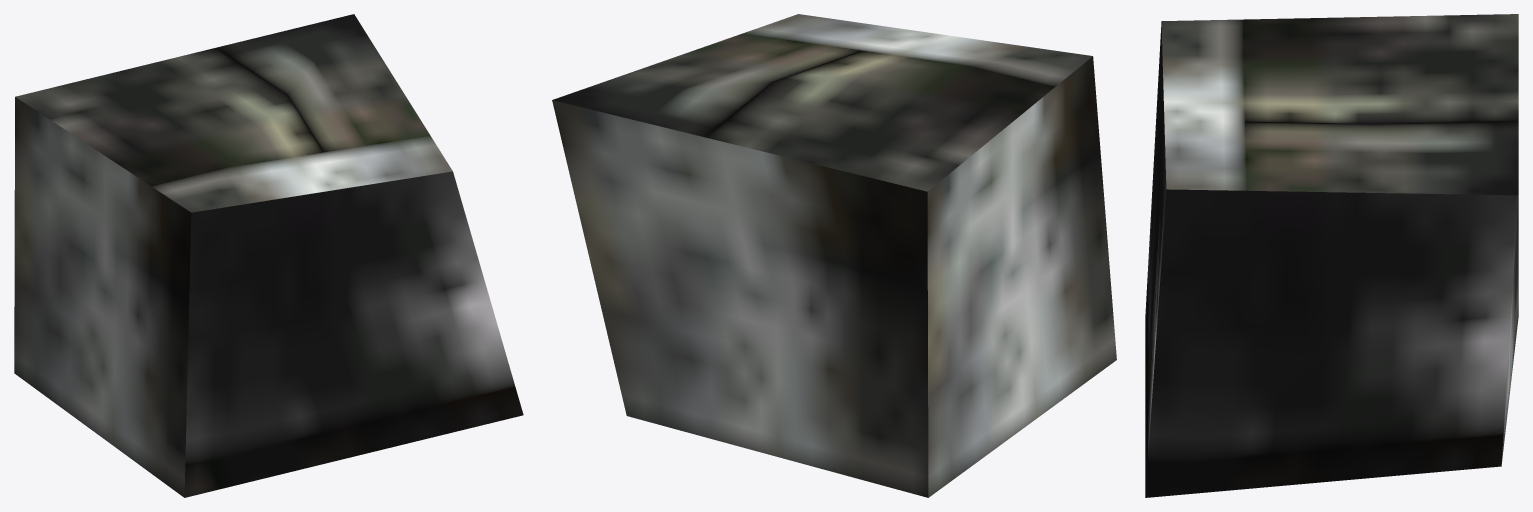
The model's file is USA - Base Infrastructure - Power Plant - Damage State 08 - ABPWRPLANT_d08.glb.
3 views of the same model, side by side, from view 1: azimuth 30°, elevation 25°; view 2: azimuth 150°, elevation 25°; view 3: azimuth 270°, elevation 25° (orthographic). The views are drawn at different scales.
Parts seen in each view (by area): view 1: ABPWRPLANT_D08; view 2: ABPWRPLANT_D08; view 3: ABPWRPLANT_D08.
Boxes of the visible parts, x1,y1,x2,y2 form: ABPWRPLANT_D08: [14, 14, 523, 497]; ABPWRPLANT_D08: [552, 14, 1116, 497]; ABPWRPLANT_D08: [1145, 14, 1518, 497].
Size of the model in its own units: 4.32 by 3.36 by 3.75.
Materials: 1 (1 with a texture image).
